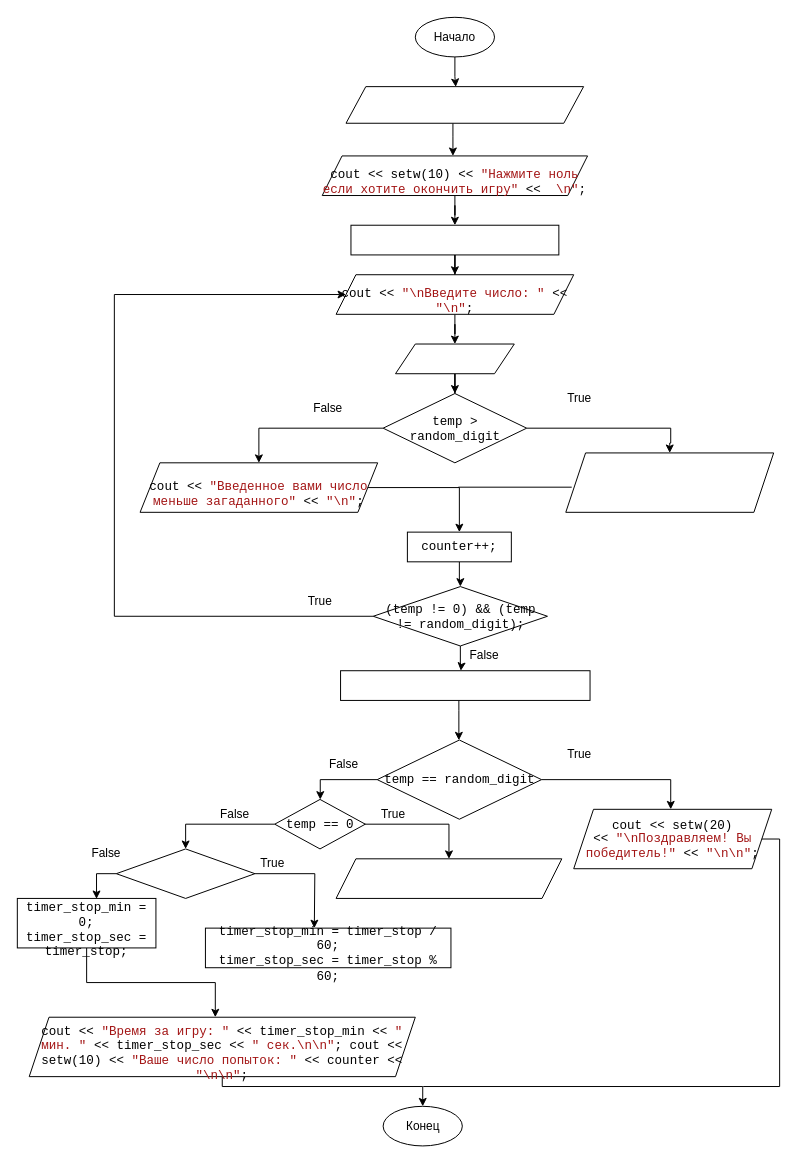
This 798x1163 diagram has some shape labels left out. The centre of each missing label's shape, as x and y in pixels:
cin >> temp;: (454,358)
cout << "Введенное вами число больше загаданного" << "\n" ;: (669,482)
cout << setw(20) << "Игра окончена!" << "\n\n" ;: (448,878)
cout << setw(25) << "Начало игры" << "\n" ;: (464,104)
timer_start = clock();: (454,239)
timer_stop = (clock() - timer_start / CLOCKS_PER_SEC) / 1000;: (465,685)
timer_stop > 61: (185,873)
